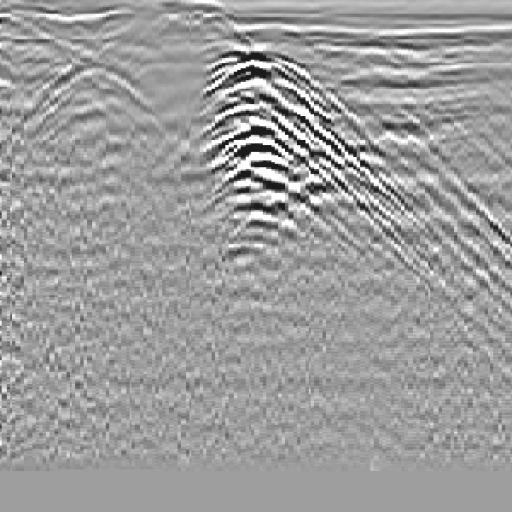metalic: (316, 92, 512, 347), (182, 35, 361, 269)
